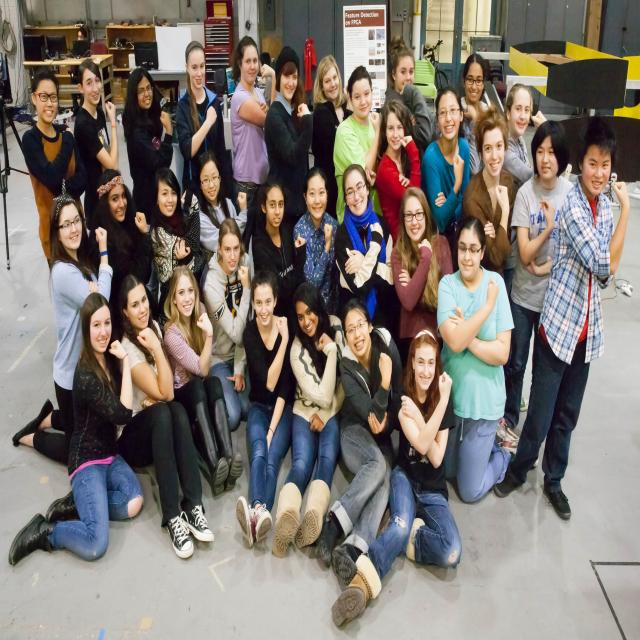body: (493, 109, 631, 522), (328, 326, 464, 630), (7, 288, 145, 568), (114, 270, 215, 560), (10, 191, 114, 469), (316, 298, 405, 584), (436, 214, 520, 506), (499, 117, 576, 434), (269, 278, 347, 560), (160, 260, 244, 498), (235, 266, 296, 552), (21, 66, 98, 281), (390, 185, 455, 372), (124, 68, 174, 306), (230, 35, 276, 278), (202, 216, 252, 434), (501, 82, 548, 299), (334, 162, 395, 326), (462, 100, 516, 278), (87, 166, 154, 305), (379, 34, 444, 176), (264, 46, 314, 230), (150, 166, 202, 339), (332, 63, 384, 225), (72, 58, 120, 232), (251, 178, 303, 337), (176, 41, 227, 198), (420, 86, 471, 236), (311, 53, 354, 222), (293, 166, 341, 316), (375, 96, 422, 249), (196, 150, 248, 256), (458, 52, 490, 178), (70, 27, 90, 114), (258, 52, 274, 108)
